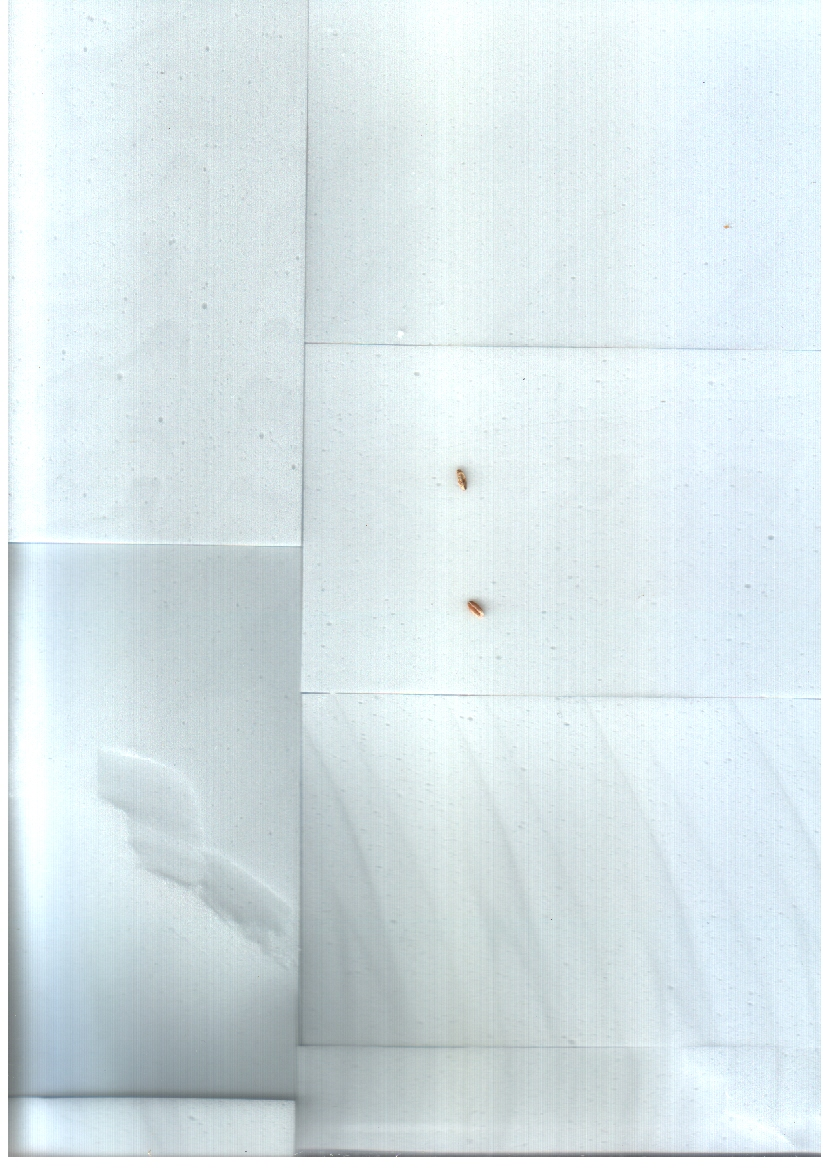grains: (447, 462, 477, 495), (461, 592, 491, 625)
